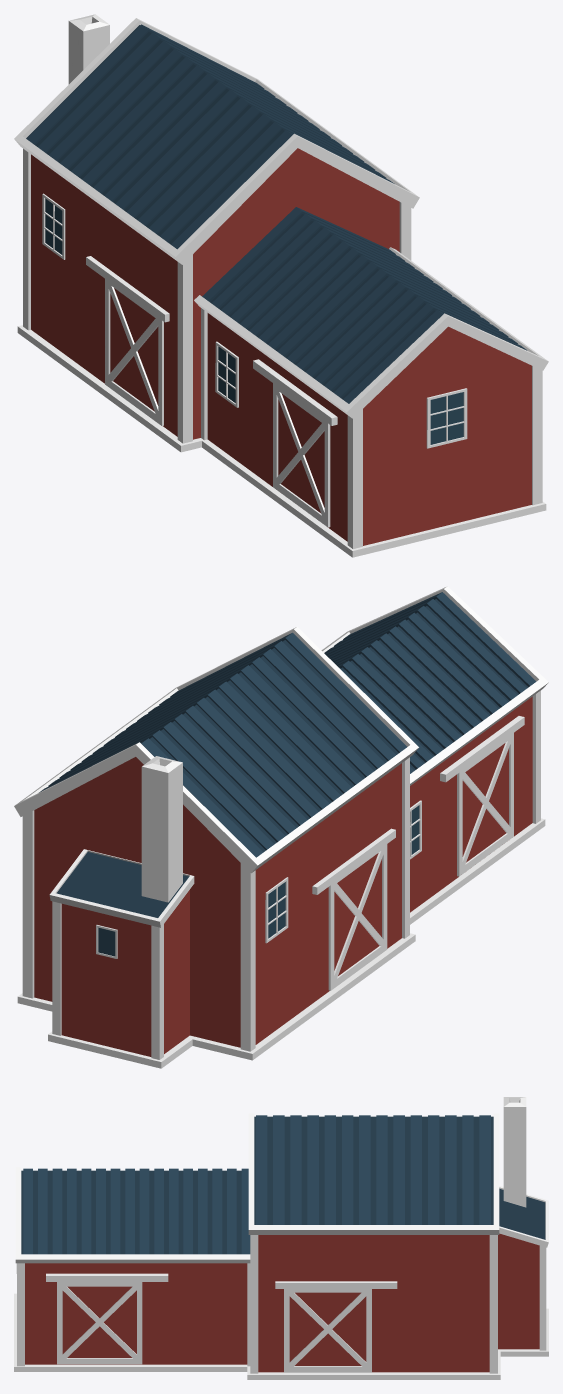
The model's file is Barn_2.fbx.
3 views of the same model, one above another, from view 1: azimuth 30°, elevation 25°; view 2: azimuth 150°, elevation 25°; view 3: azimuth 270°, elevation 25° (orthographic). The views are drawn at different scales.
Parts seen in each view (by area): view 1: Barn_2; view 2: Barn_2; view 3: Barn_2.
Boxes of the visible parts, <box> form: Barn_2: <box>14,14,548,557</box>; Barn_2: <box>14,586,548,1068</box>; Barn_2: <box>14,1097,548,1379</box>.
Bounding box in the file's own units: 543 × 610 × 1329.
